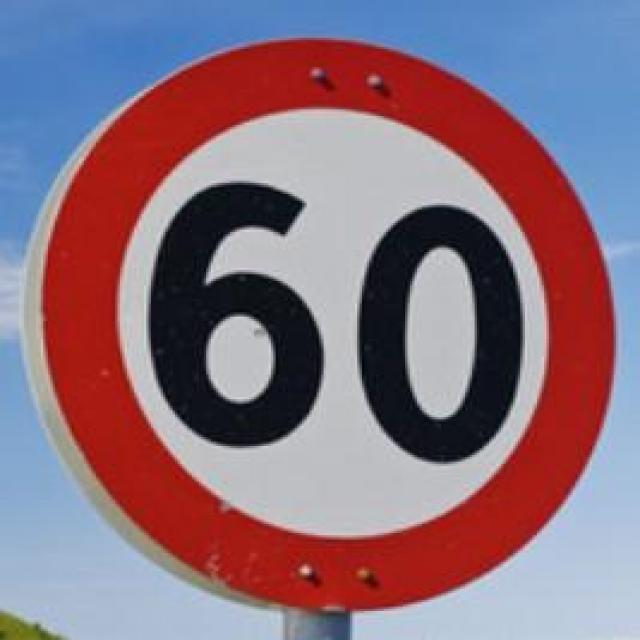traffic_sign: (22, 34, 616, 602)
